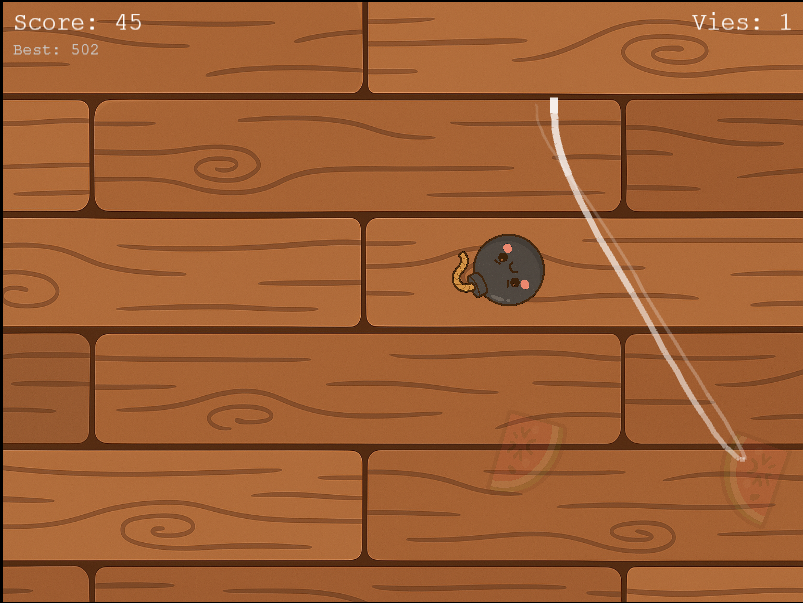bomb: (445, 223, 554, 316)
